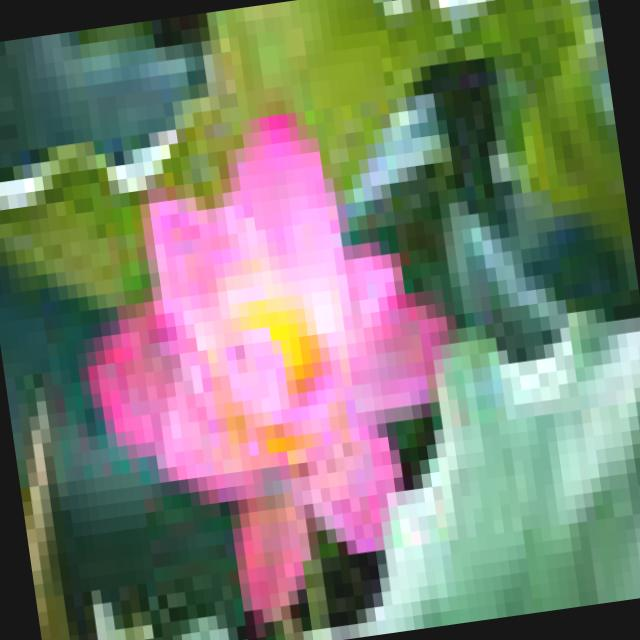lotus: (37, 81, 506, 640)
